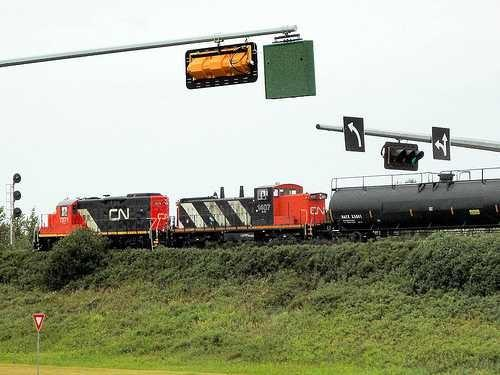green: (385, 142, 422, 169)
